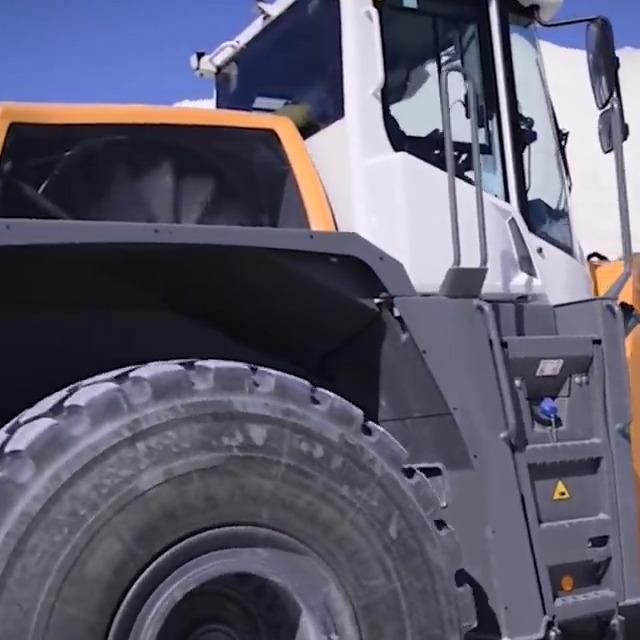Person: (376, 73, 439, 153)
wheel loader: (0, 0, 640, 640)
